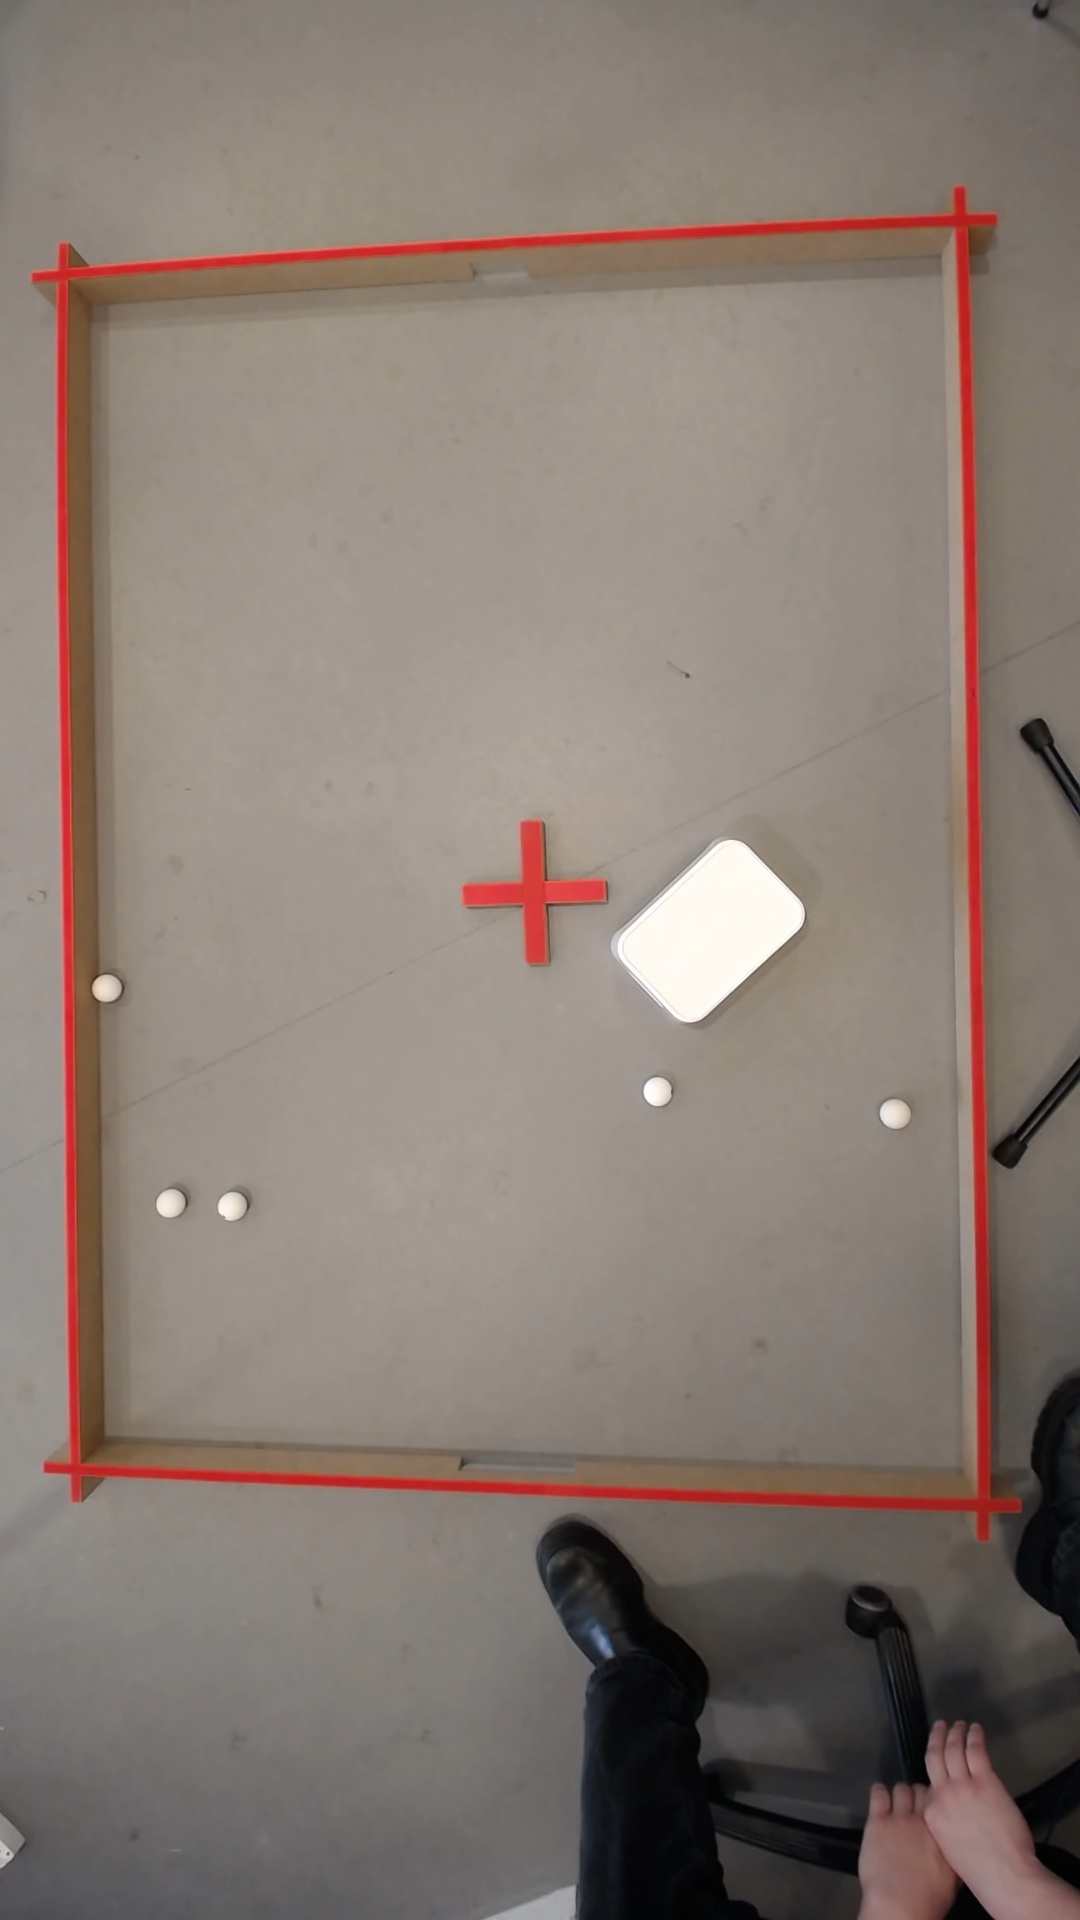balls: (604, 827, 814, 1034), (637, 1072, 674, 1109), (212, 1188, 245, 1222), (874, 1097, 909, 1130), (156, 1189, 181, 1216)
car: (94, 975, 116, 1000)
